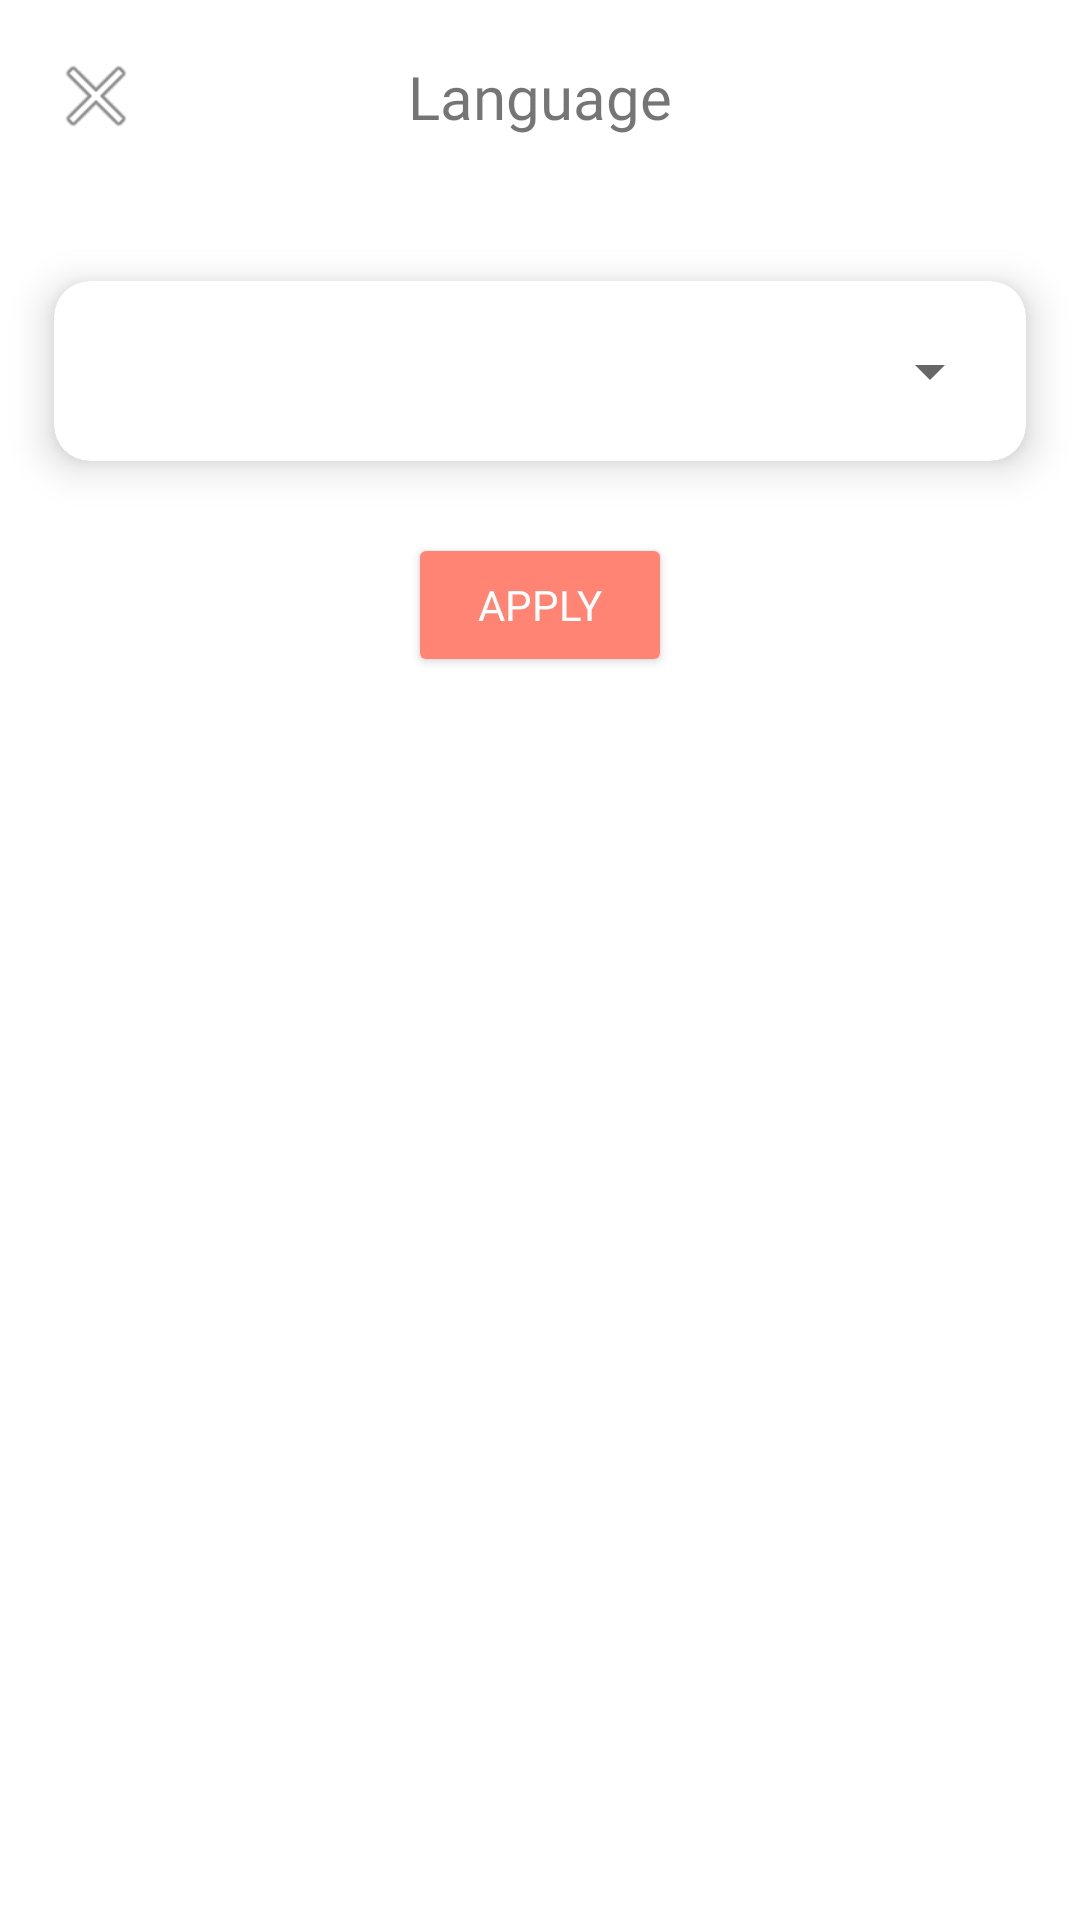

Screen size 1080 × 1920. Icon name, then its box in pixels as bbox=[x1, y1, x2, y2]:
Close: bbox=[66, 66, 126, 126]
